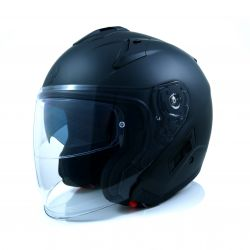with_helmet: (31, 26, 212, 209)
